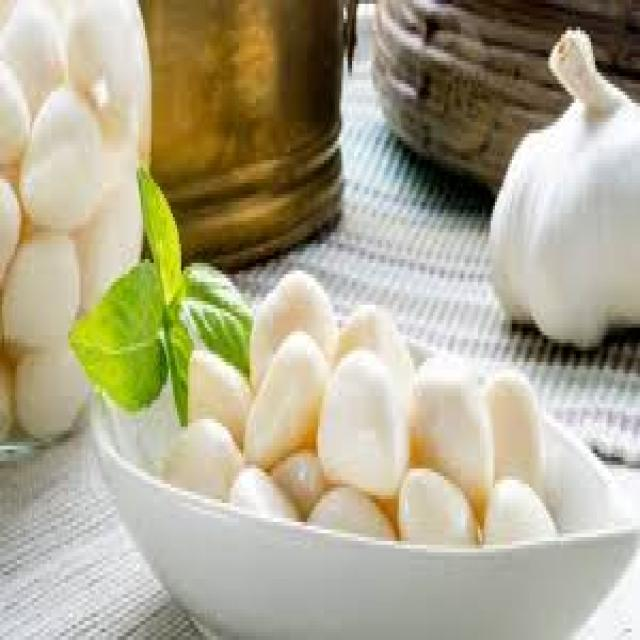Garlic: (180, 261, 592, 586), (0, 0, 145, 472), (483, 16, 640, 352)
